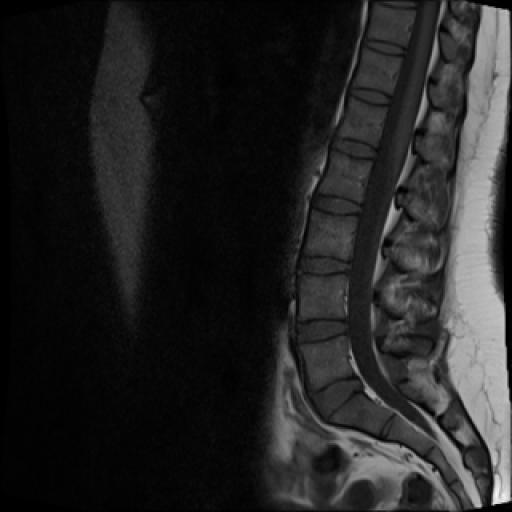L1: (337, 96, 388, 148)
L2: (318, 150, 373, 204)
L3: (303, 209, 358, 262)
L4: (299, 275, 348, 320)
L5: (298, 336, 353, 390)
S1: (330, 392, 394, 438)
